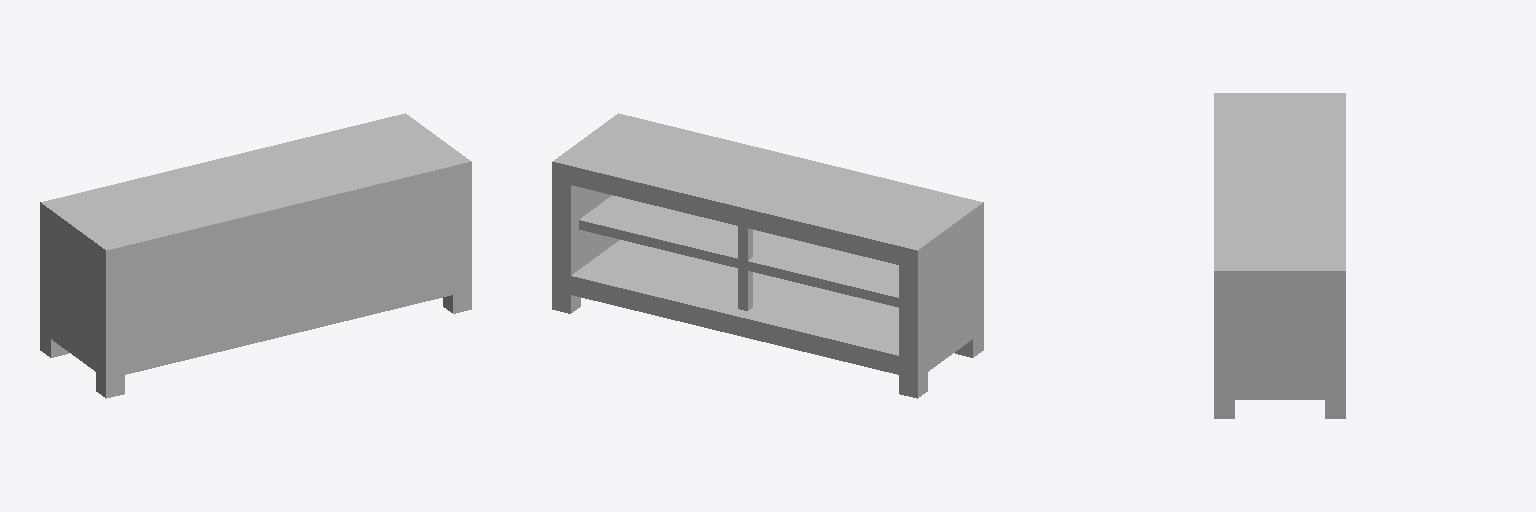
Rendered from cabinetTelevision.obj.
3 renders of one model, left to right at view 1: azimuth 30°, elevation 25°; view 2: azimuth 150°, elevation 25°; view 3: azimuth 270°, elevation 25°, orthographic.
Visible parts, largest first — view 1: cabinetTelevision; view 2: cabinetTelevision; view 3: cabinetTelevision.
Part boxes in pixels (x1,y1,x2,y2): cabinetTelevision: (40, 113, 471, 398); cabinetTelevision: (552, 113, 983, 398); cabinetTelevision: (1214, 93, 1345, 418).
Size of the model in its own units: 0.8 by 0.31 by 0.25.